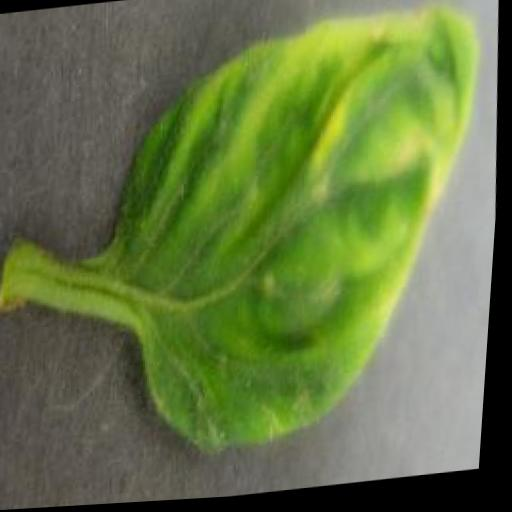Yellow Leaf Curl Virus: (83, 6, 503, 459)
